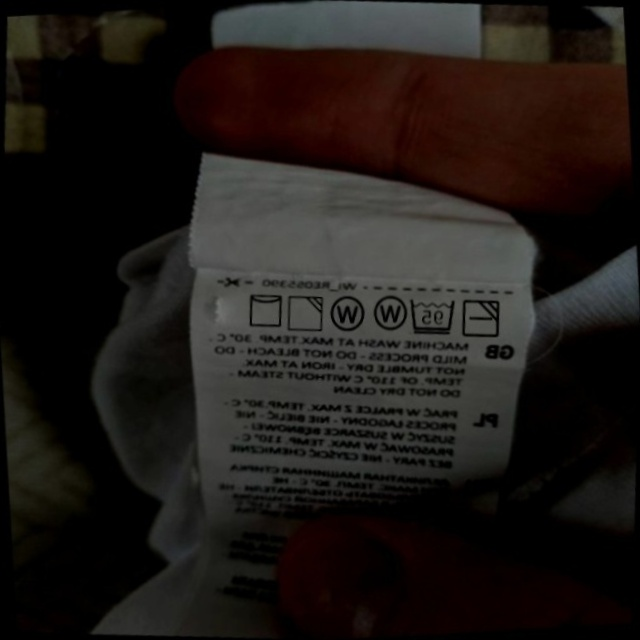95C: (405, 292, 460, 339)
dry_flat_in_shade: (458, 293, 505, 342)
line_dry: (242, 287, 288, 332)
shade_dry: (283, 290, 328, 336)
wet_clean: (326, 291, 369, 337), (368, 288, 410, 335)
